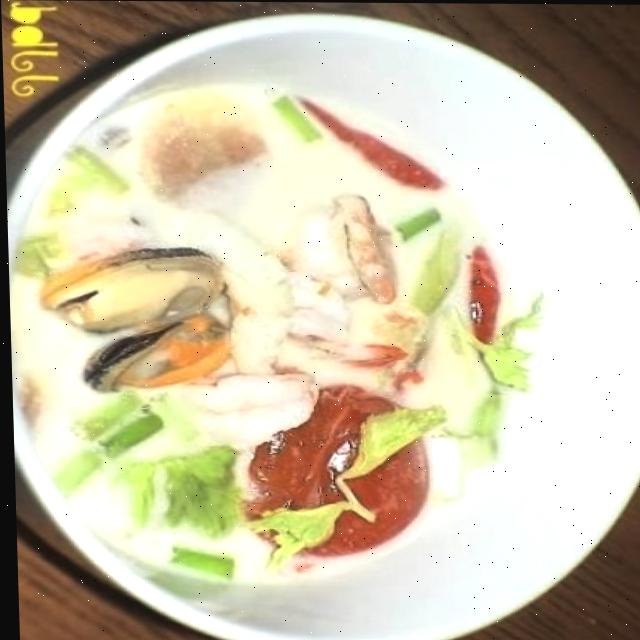汤锅炖物: (14, 41, 595, 618)
